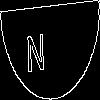N: (25, 25, 46, 72)
